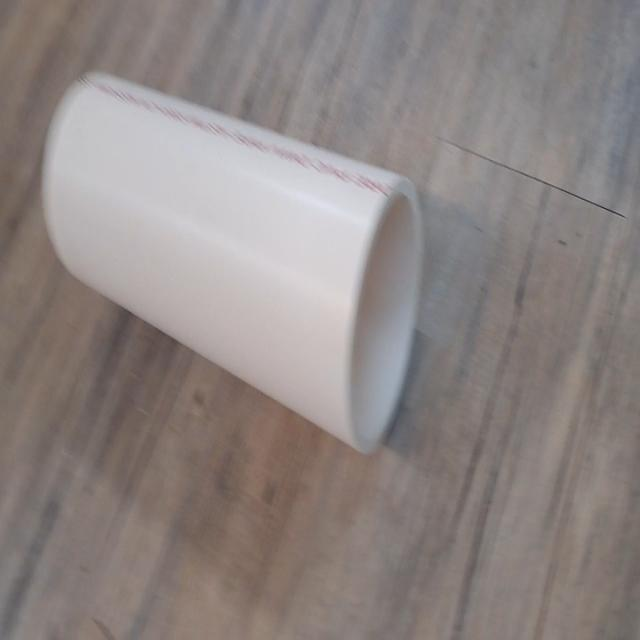CORAL: (41, 64, 435, 459)
